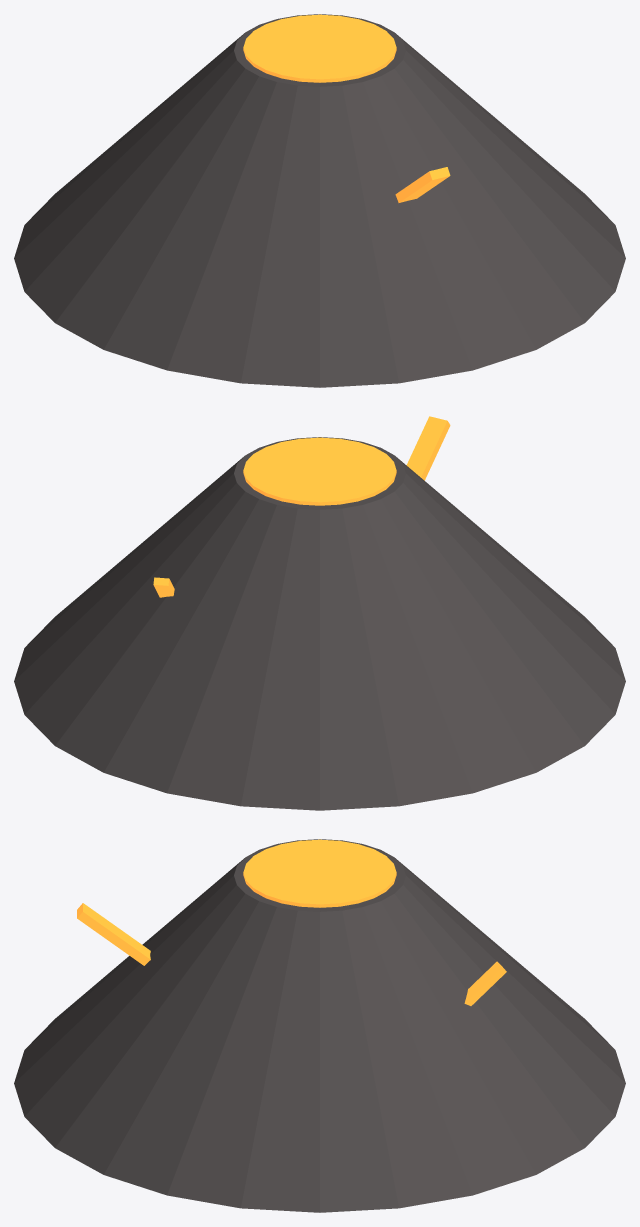
File: prop_volcano.glb
The picture shows the model from 3 angles, top to bottom: view 1: azimuth 30°, elevation 25°; view 2: azimuth 150°, elevation 25°; view 3: azimuth 270°, elevation 25°; orthographic projection.
Visible parts, largest first — view 1: prop_volcano; view 2: prop_volcano; view 3: prop_volcano.
Boxes of the visible parts, left/top/right/bottom form: prop_volcano: left=14, top=14, right=625, bottom=387; prop_volcano: left=14, top=416, right=625, bottom=810; prop_volcano: left=14, top=839, right=625, bottom=1212.
Size of the model in its own units: 32 by 12.2 by 32.
